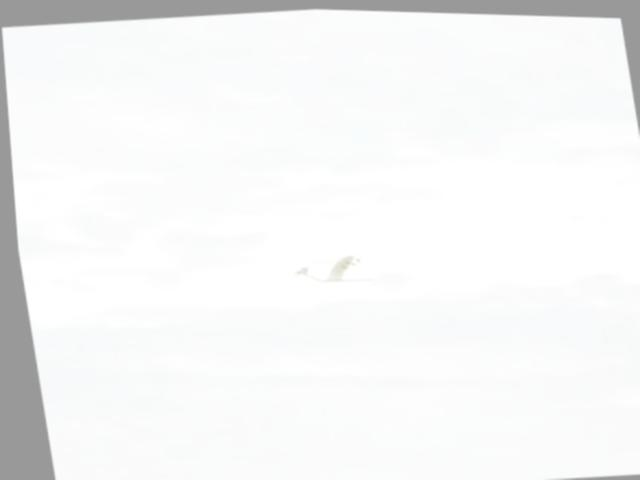uav: (284, 232, 380, 287)
